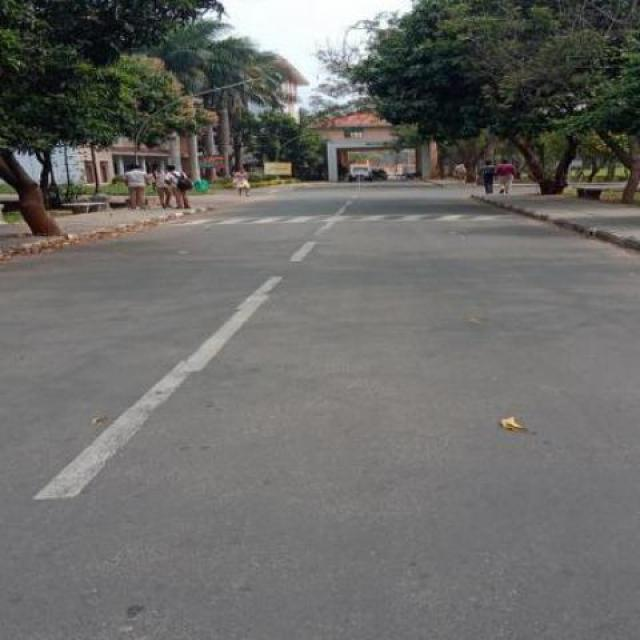Speed Bump: (167, 209, 518, 224)
